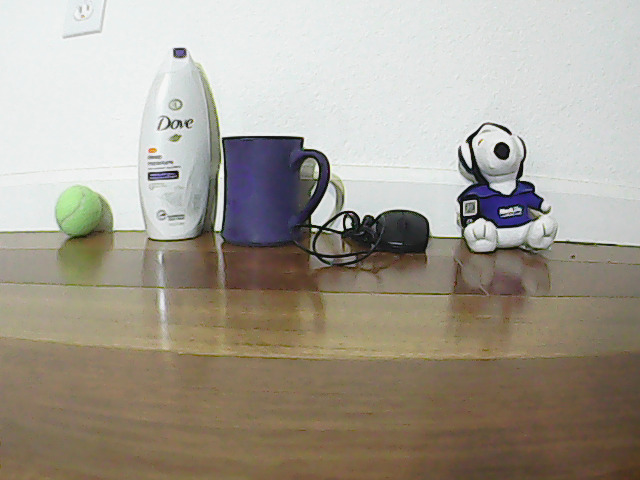ball: (46, 176, 110, 245)
mouse: (376, 196, 442, 260)
mug: (224, 127, 325, 239)
snoopy: (456, 111, 570, 254)
soap: (139, 33, 212, 240)
